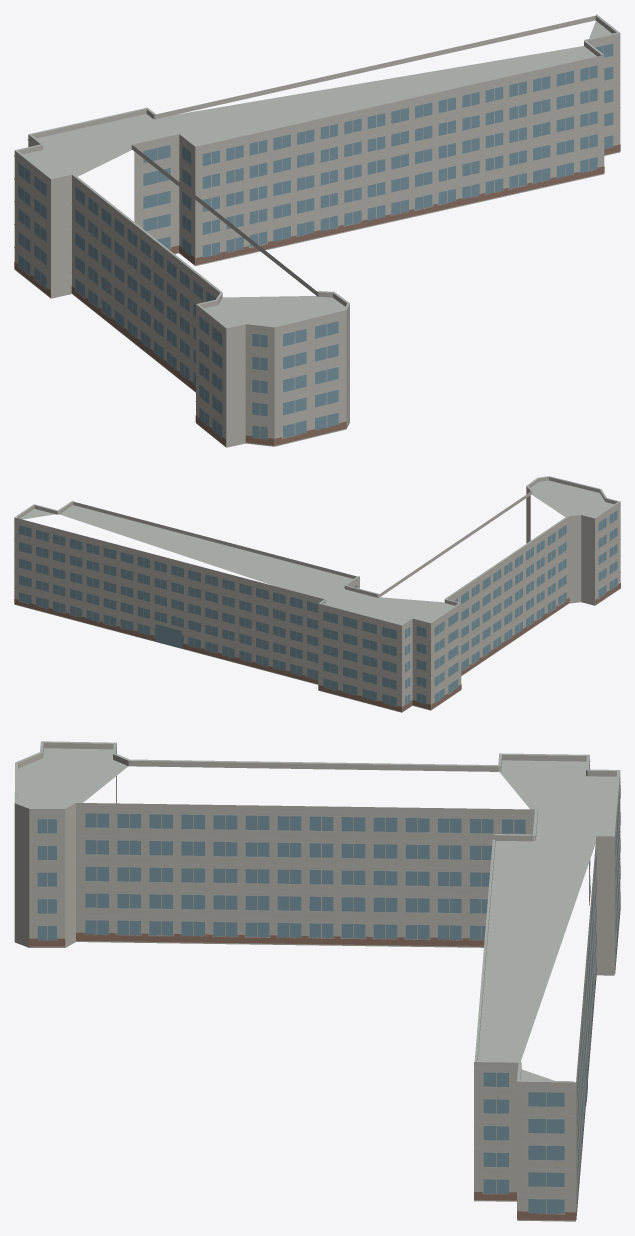
Rendered from public-34d04785-59c9-4448-8f92-a38df88203cd.glb.
3 renders of one model, top to bottom at view 1: azimuth 30°, elevation 25°; view 2: azimuth 150°, elevation 25°; view 3: azimuth 270°, elevation 25°, orthographic. The views are drawn at different scales.
Parts seen in each view (by area): view 1: public-34d04785-59c9-4448-8f92-a38df88203cd; view 2: public-34d04785-59c9-4448-8f92-a38df88203cd; view 3: public-34d04785-59c9-4448-8f92-a38df88203cd.
Part boxes in pixels (left/top/right/bottom): public-34d04785-59c9-4448-8f92-a38df88203cd: left=14, top=14, right=620, bottom=447; public-34d04785-59c9-4448-8f92-a38df88203cd: left=14, top=476, right=620, bottom=712; public-34d04785-59c9-4448-8f92-a38df88203cd: left=14, top=741, right=620, bottom=1221.
Bounding box in the file's own units: 80.34 × 15.25 × 60.3.
